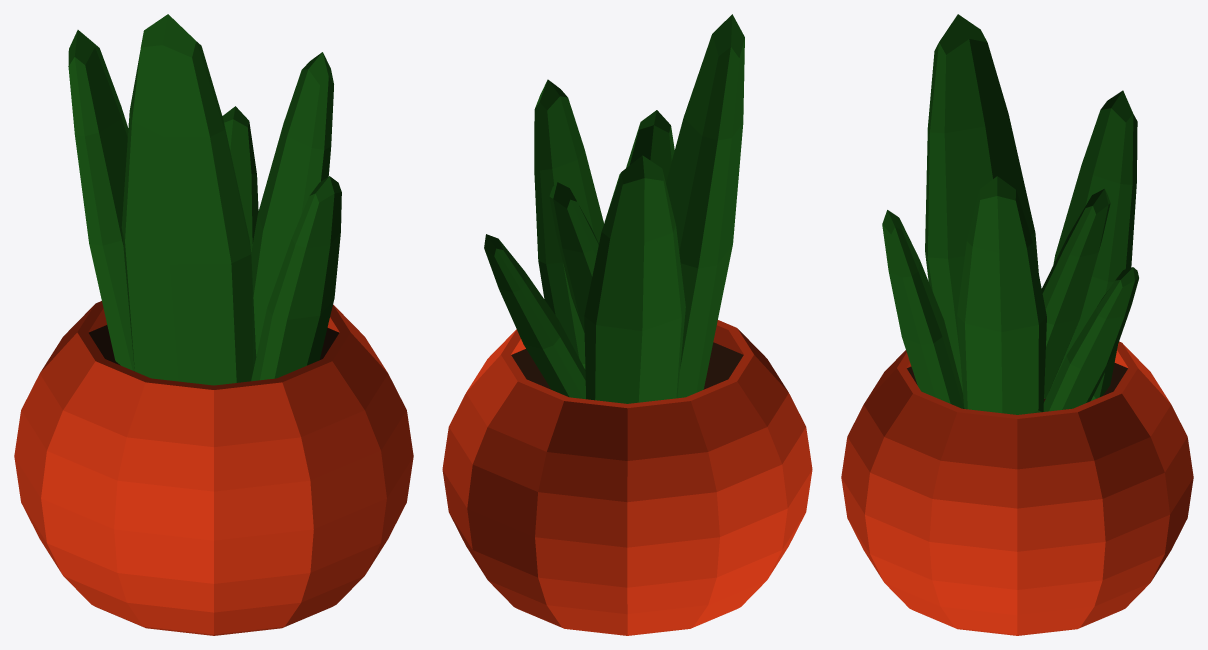
Rendered from Potted Plant 2.fbx.
3 views of the same model, side by side, from view 1: azimuth 30°, elevation 25°; view 2: azimuth 150°, elevation 25°; view 3: azimuth 270°, elevation 25° (orthographic). The views are drawn at different scales.
Parts seen in each view (by area): view 1: Node 0; view 2: Node 0; view 3: Node 0.
Boxes of the visible parts, bbox=[...] form: Node 0: bbox=[14, 14, 413, 635]; Node 0: bbox=[442, 14, 812, 635]; Node 0: bbox=[841, 14, 1193, 635].
Bounding box in the file's own units: 0.2168 × 0.3655 × 0.2168.
